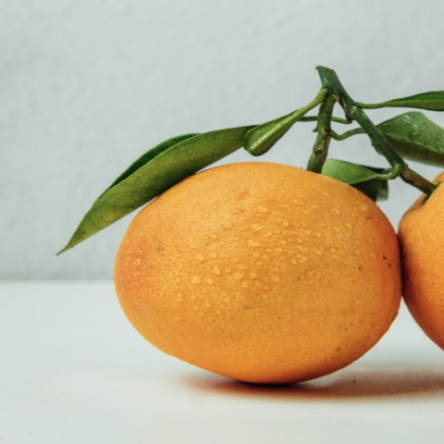orange: (85, 137, 433, 399)
